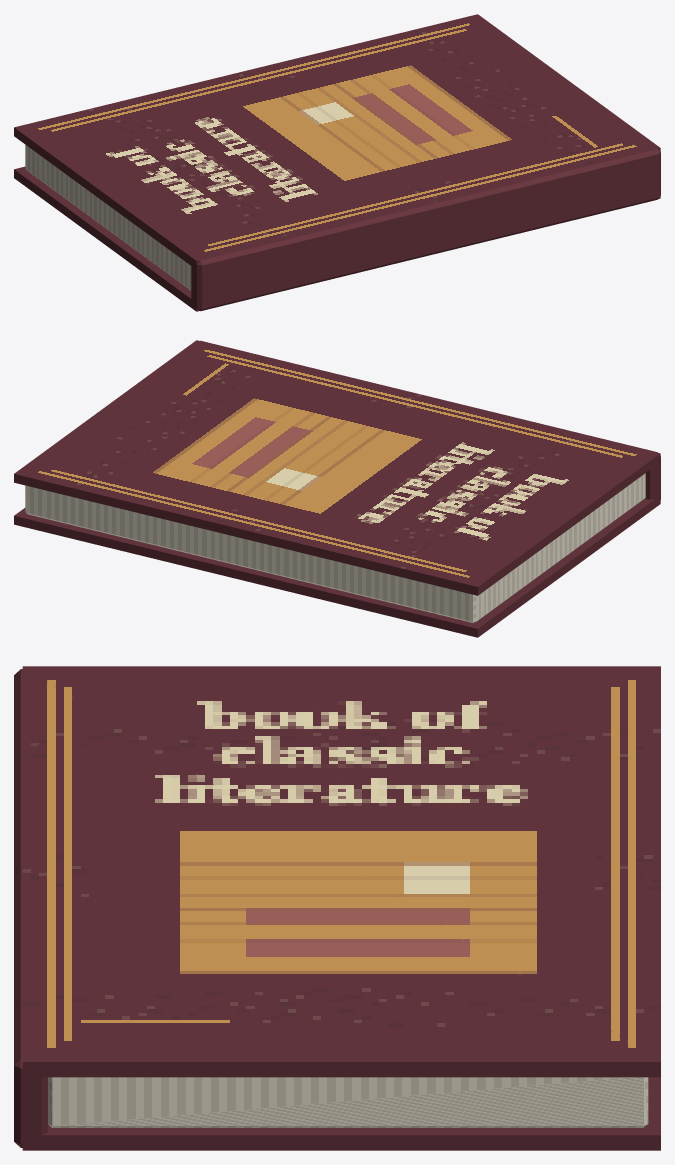
File: classic_literature.glb
The picture shows the model from 3 angles, top to bottom: view 1: azimuth 30°, elevation 25°; view 2: azimuth 150°, elevation 25°; view 3: azimuth 270°, elevation 25°; orthographic projection. The views are drawn at different scales.
Visible parts, largest first — view 1: block_front, block_spine, block_pages, block_back; view 2: block_front, block_pages, block_back, block_spine; view 3: block_front, block_pages, block_back, block_spine.
Boxes of the visible parts, box(x1,y1,x2,y2) form: block_front: box(14, 14, 660, 269); block_spine: box(191, 149, 660, 311); block_pages: box(25, 145, 191, 290); block_back: box(14, 166, 660, 311); block_front: box(14, 340, 660, 595); block_pages: box(25, 473, 645, 623); block_back: box(14, 495, 660, 637); block_spine: box(196, 340, 660, 499); block_front: box(22, 666, 660, 1077); block_pages: box(48, 1077, 648, 1127); block_back: box(22, 1077, 660, 1150); block_spine: box(14, 669, 47, 1147).
Bounding box in the file's own units: 0.22 × 0.023 × 0.152.
Materials: 1 (1 with a texture image).
